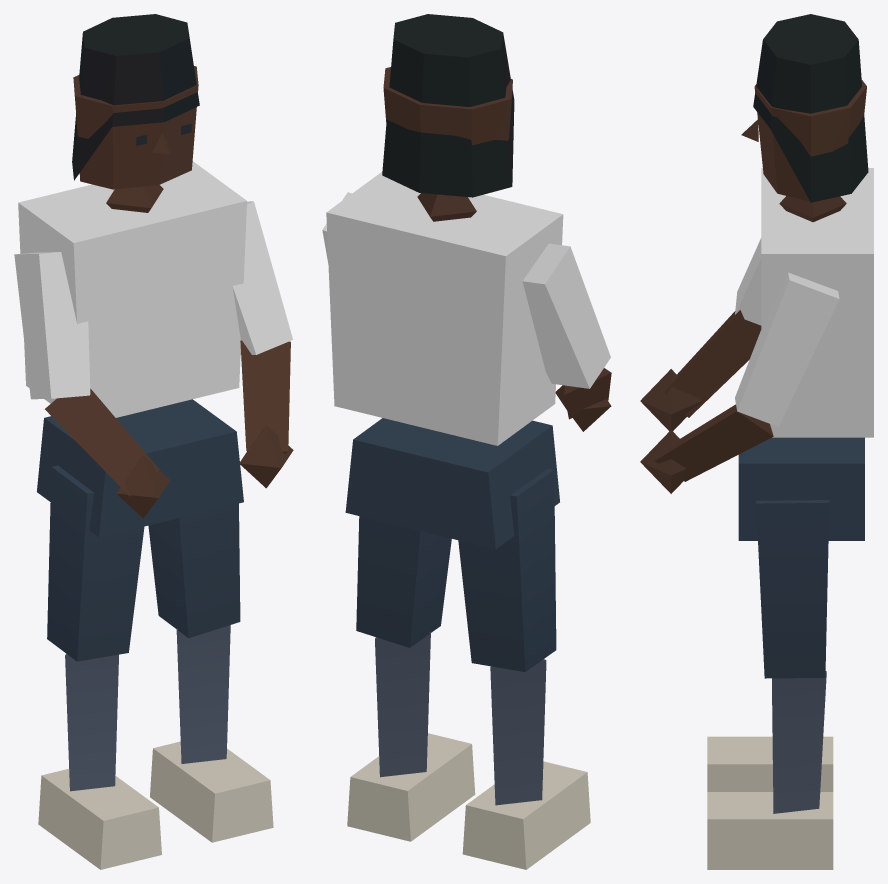
The model's file is fan-10.glb.
3 views of the same model, side by side, from view 1: azimuth 30°, elevation 25°; view 2: azimuth 150°, elevation 25°; view 3: azimuth 270°, elevation 25° (orthographic). The views are drawn at different scales.
Visible parts, largest first — view 1: fan-10; view 2: fan-10; view 3: fan-10.
Boxes of the visible parts, x1=… form: fan-10: x1=14, y1=14, x2=293, y2=869; fan-10: x1=322, y1=14, x2=611, y2=869; fan-10: x1=640, y1=14, x2=873, y2=869.
Bounding box in the file's own units: 0.6384 × 1.93 × 0.519.
